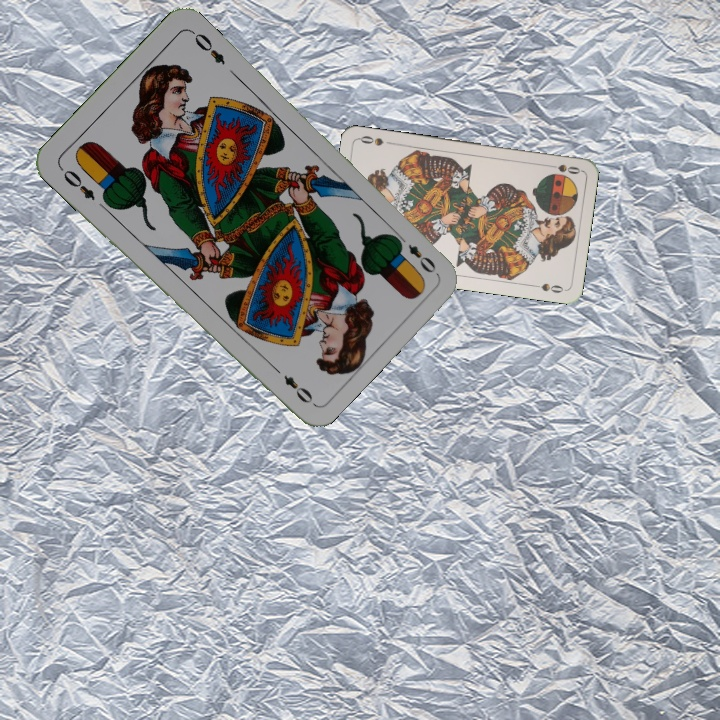EO: (392, 231, 439, 276), (59, 165, 98, 203)
SO: (542, 160, 583, 177)
